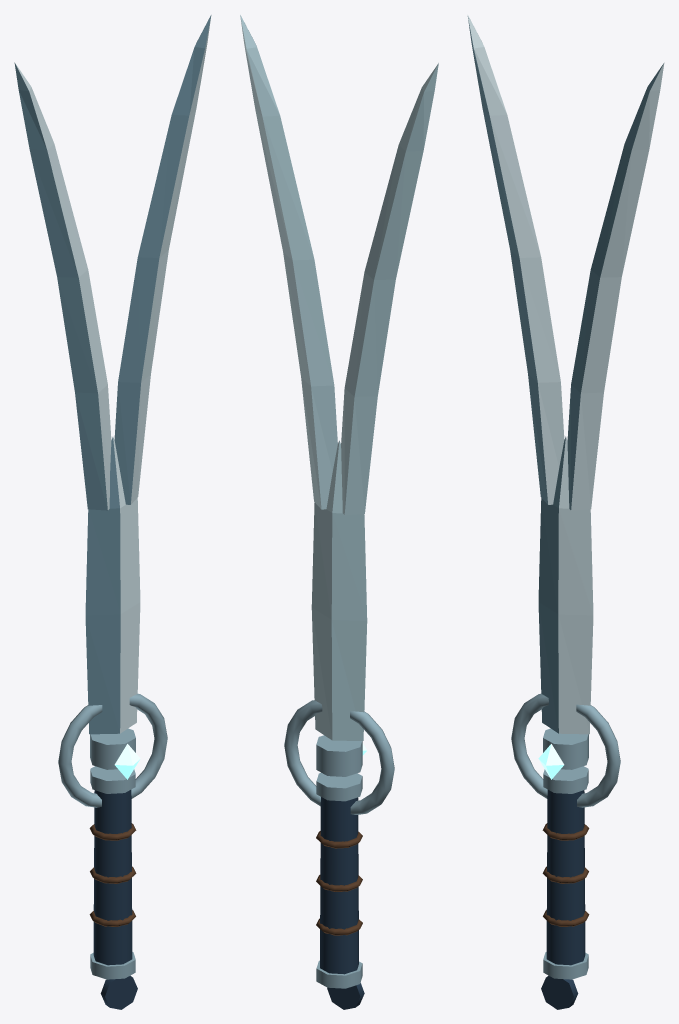
The model's file is sword_f8_8ce5c6b8.glb.
3 renders of one model, left to right at view 1: azimuth 30°, elevation 25°; view 2: azimuth 150°, elevation 25°; view 3: azimuth 330°, elevation 25°, orthographic.
Visible parts, largest first — view 1: m1_ow80_, m2_ow80_, m0_ow80_, m5_ow80_, m4_ow80_, m6_ow80_, m3_; view 2: m1_ow80_, m2_ow80_, m0_ow80_, m4_ow80_, m5_ow80_, m6_ow80_; view 3: m2_ow80_, m1_ow80_, m0_ow80_, m5_ow80_, m4_ow80_, m6_ow80_, m3_.
Boxes of the visible parts, bbox=[...] form: m1_ow80_: bbox=[14, 62, 111, 510]; m2_ow80_: bbox=[114, 15, 211, 504]; m0_ow80_: bbox=[85, 436, 140, 734]; m5_ow80_: bbox=[93, 790, 137, 1009]; m4_ow80_: bbox=[58, 693, 167, 979]; m6_ow80_: bbox=[89, 823, 136, 926]; m3_: bbox=[114, 744, 140, 779]; m1_ow80_: bbox=[341, 63, 438, 515]; m2_ow80_: bbox=[240, 15, 337, 509]; m0_ow80_: bbox=[311, 440, 367, 740]; m4_ow80_: bbox=[284, 700, 394, 988]; m5_ow80_: bbox=[320, 797, 364, 1009]; m6_ow80_: bbox=[316, 831, 362, 935]; m2_ow80_: bbox=[567, 62, 664, 510]; m1_ow80_: bbox=[467, 15, 564, 504]; m0_ow80_: bbox=[538, 436, 593, 734]; m5_ow80_: bbox=[541, 790, 585, 1009]; m4_ow80_: bbox=[511, 693, 620, 979]; m6_ow80_: bbox=[542, 823, 589, 926]; m3_: bbox=[538, 744, 564, 779].
Size of the model in its own units: 0.43 by 2.01 by 0.1209.
